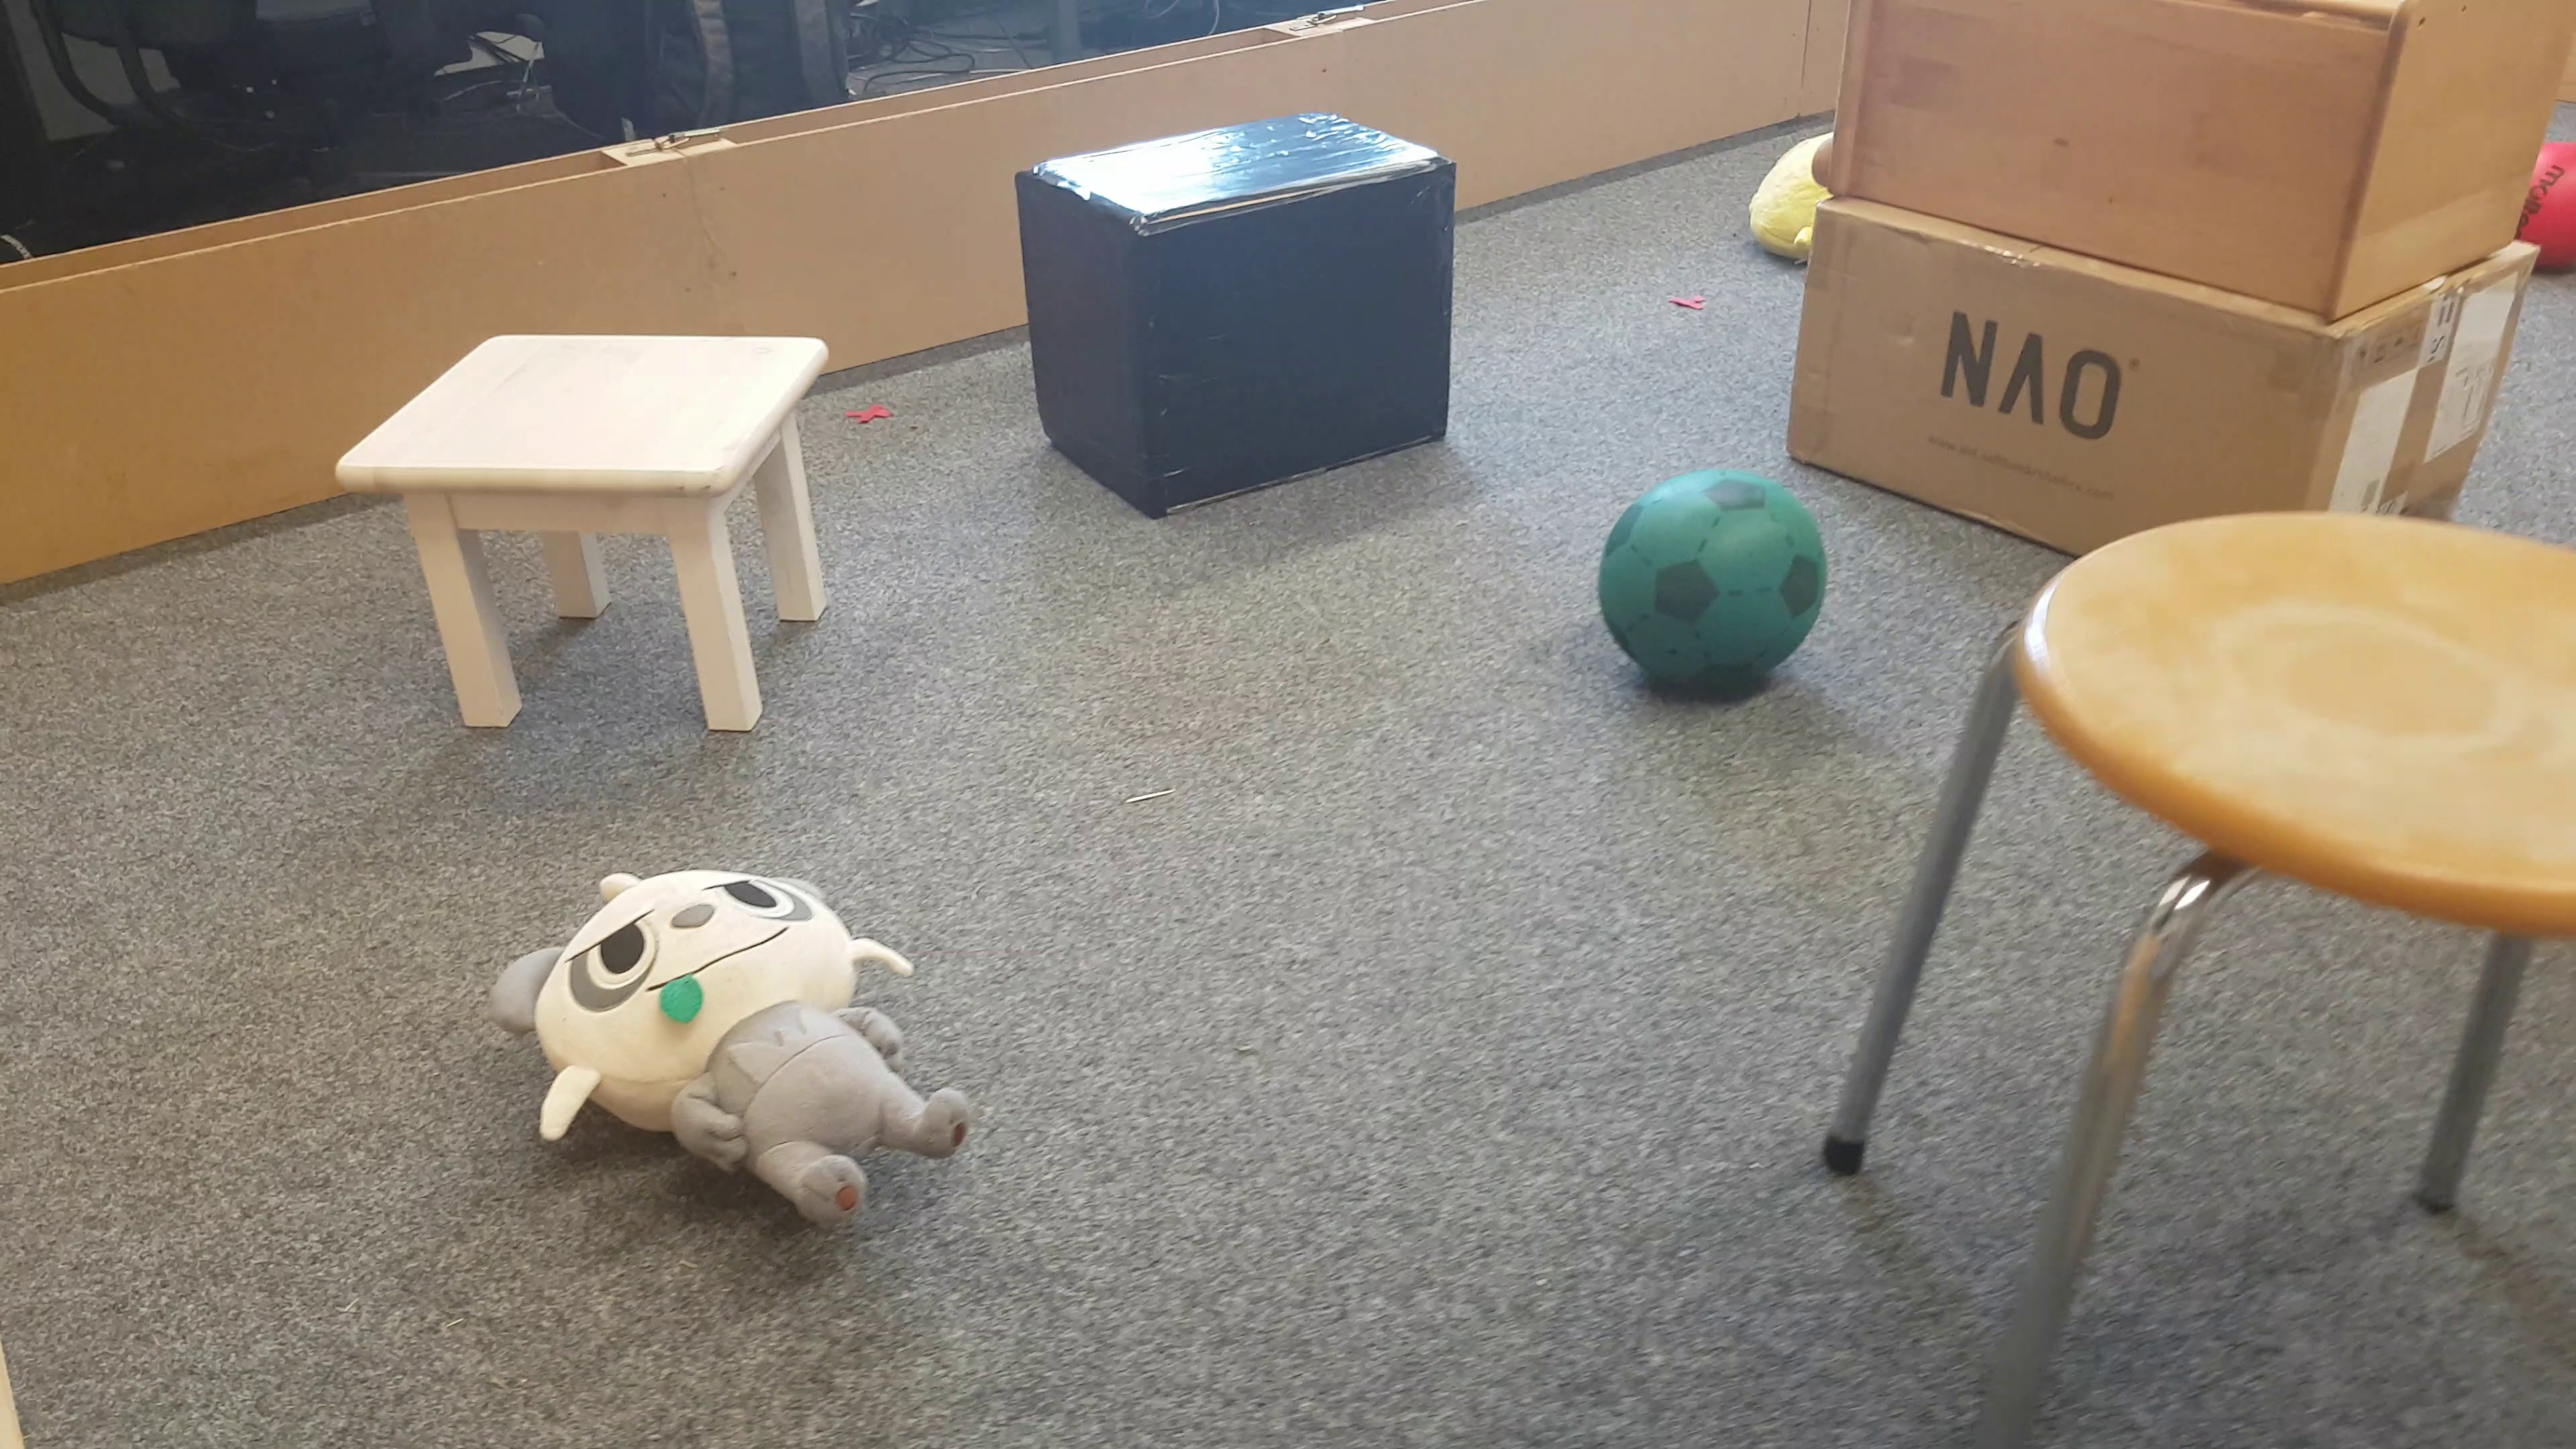grasp: (501, 849, 970, 1235), (1750, 134, 1806, 262)
kick: (1601, 469, 1829, 699), (2546, 150, 2572, 276)
